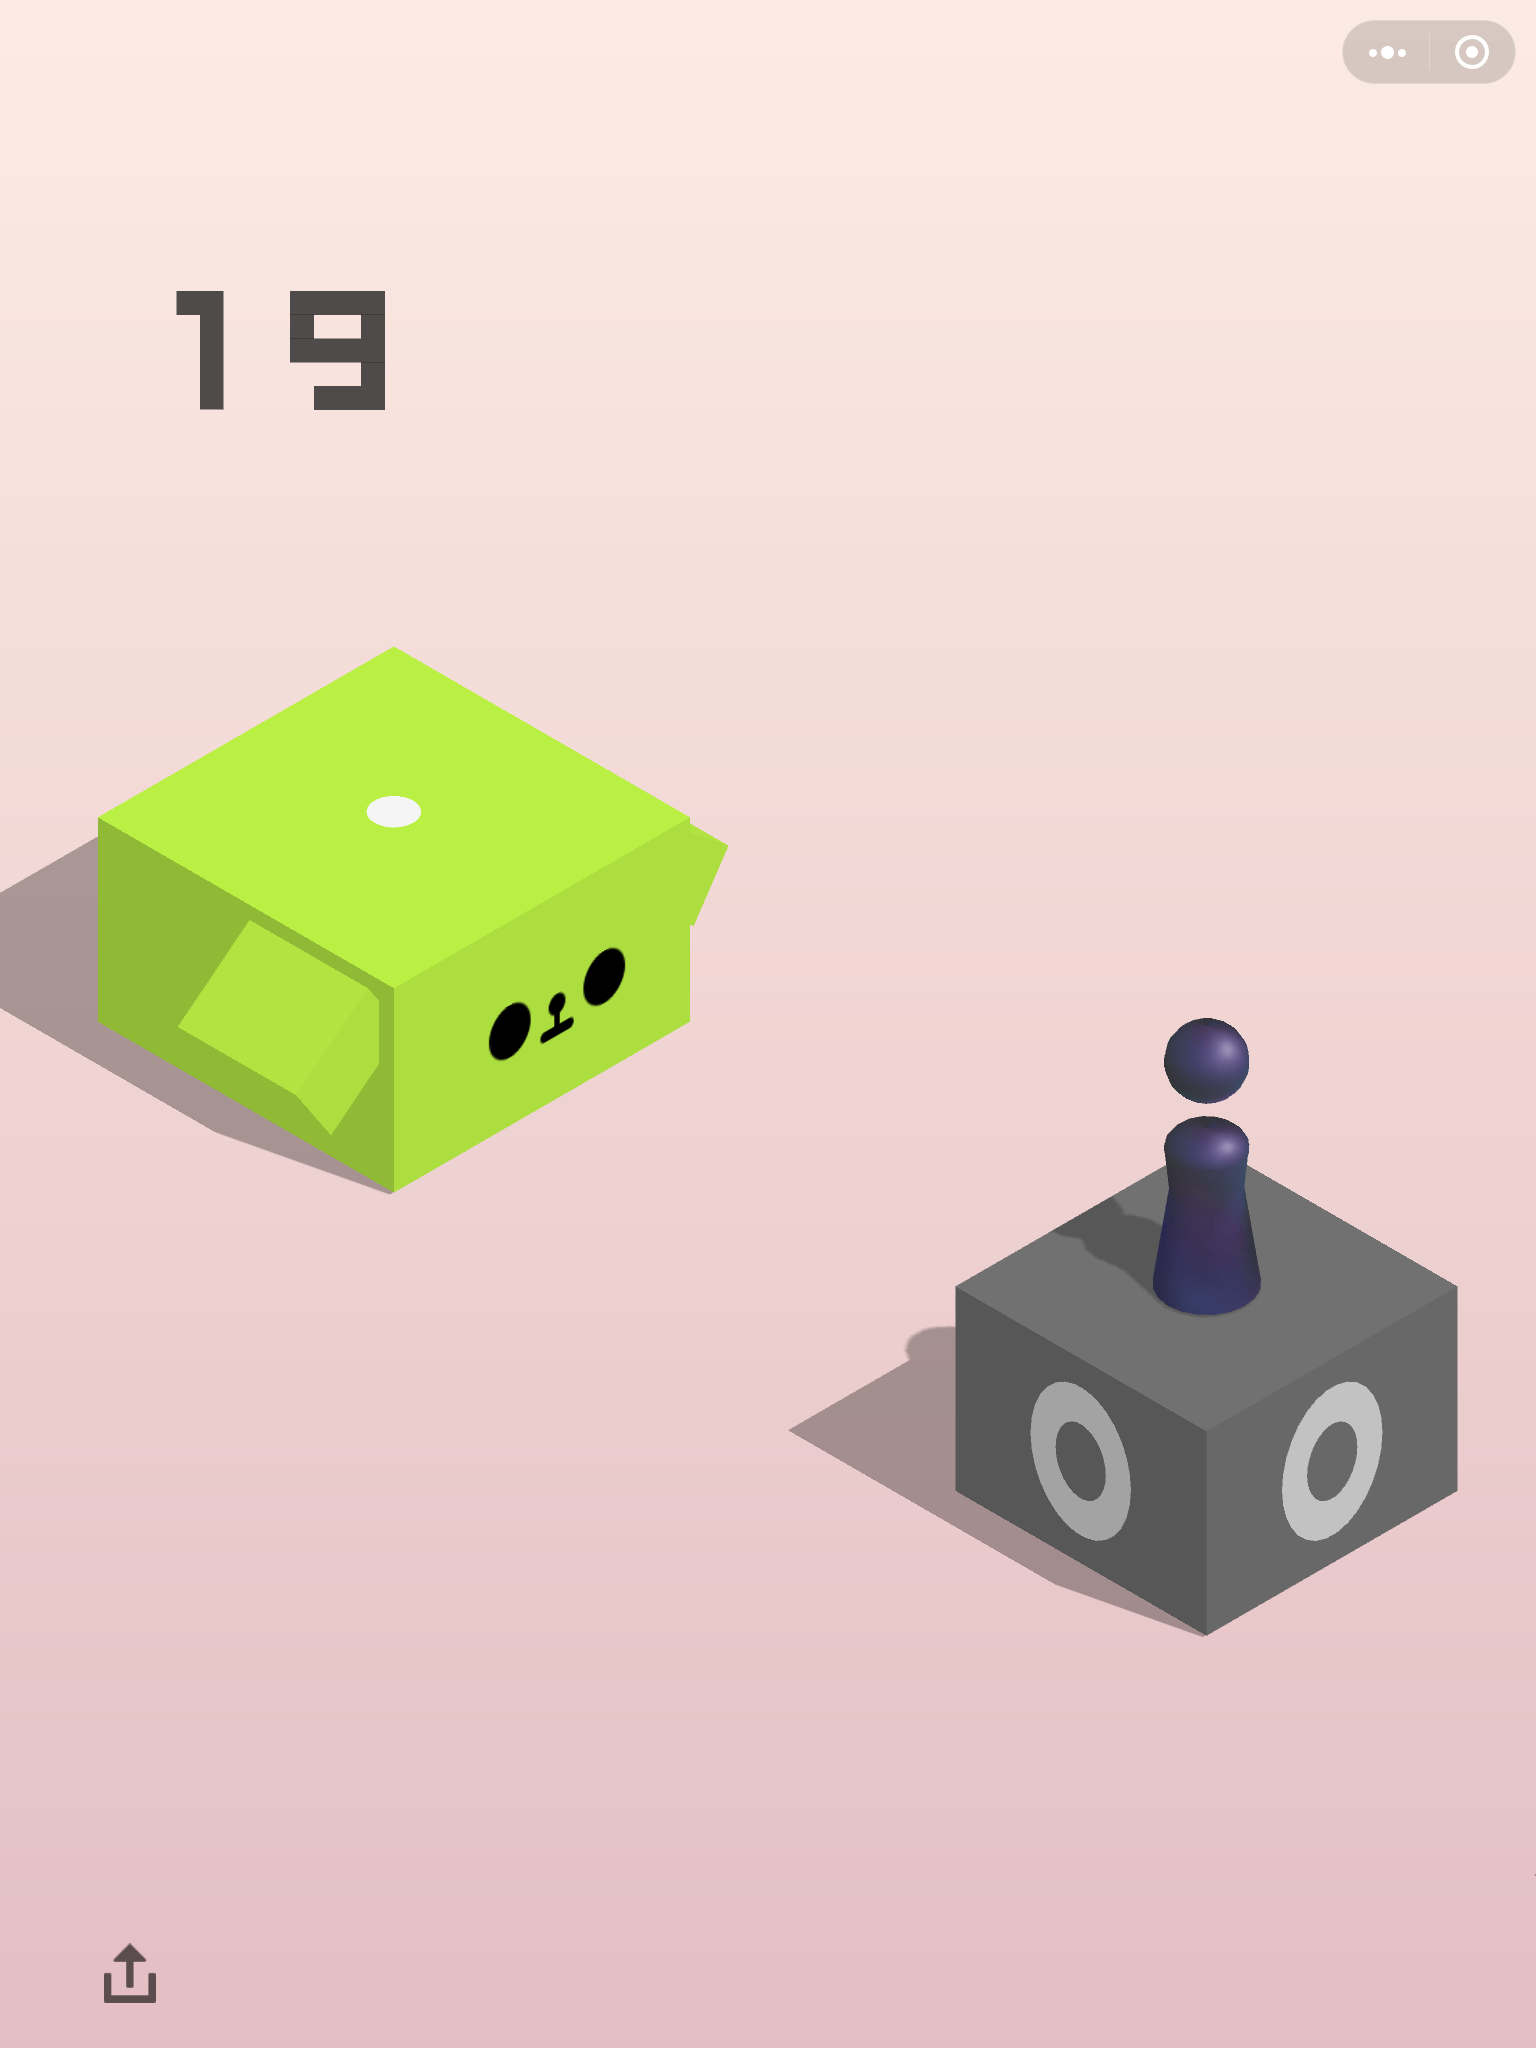f: (89, 647, 723, 1201), (945, 1150, 1468, 1643)
r: (1149, 1009, 1263, 1330)
